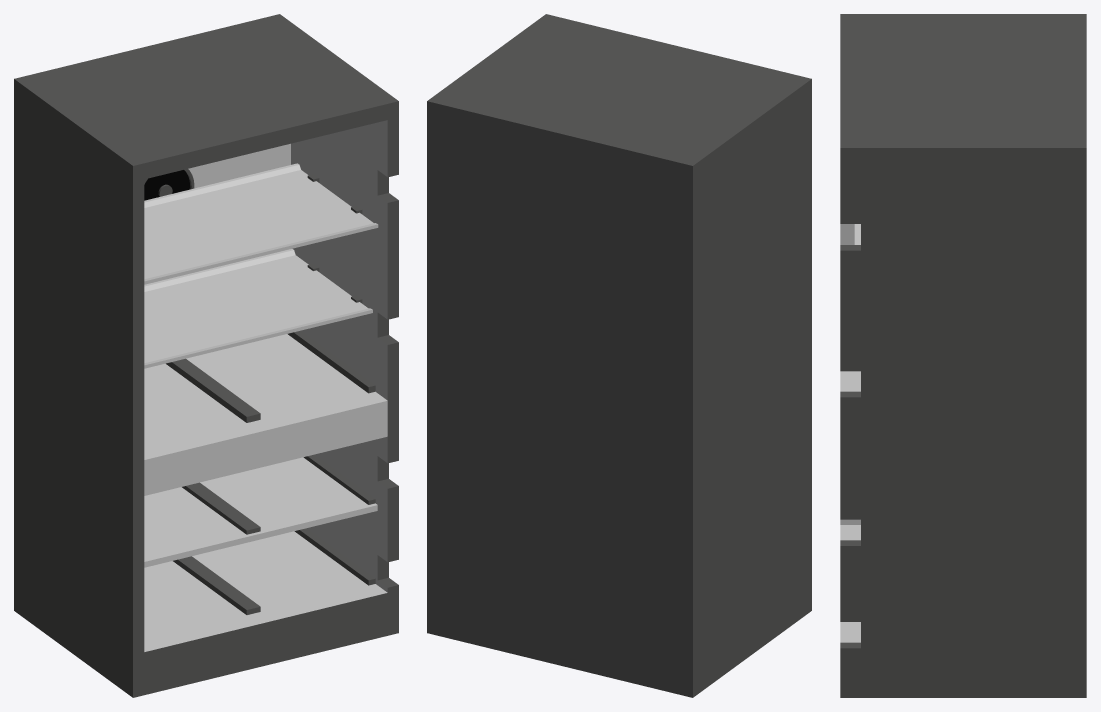
File: Fridge_Freezer_Main.fbx
3 views of the same model, side by side, from view 1: azimuth 30°, elevation 25°; view 2: azimuth 150°, elevation 25°; view 3: azimuth 270°, elevation 25° (orthographic). The views are drawn at different scales.
Visible parts, largest first — view 1: Cylinder.041; view 2: Cylinder.041; view 3: Cylinder.041.
Part boxes in pixels (x1,y1,x2,y2): Cylinder.041: [14, 14, 398, 697]; Cylinder.041: [427, 14, 811, 697]; Cylinder.041: [840, 14, 1086, 697].
Bounding box in the file's own units: 123 × 235 × 95.25.
